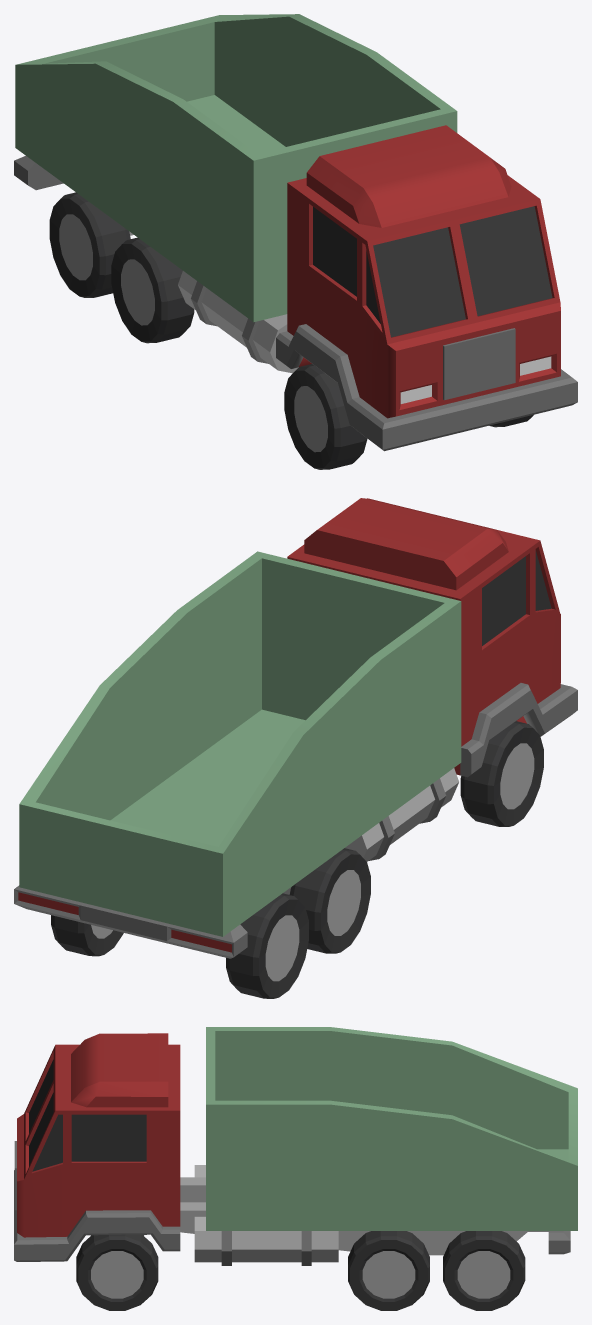
File: Gruzovik_V3.fbx
3 renders of one model, top to bottom at view 1: azimuth 30°, elevation 25°; view 2: azimuth 150°, elevation 25°; view 3: azimuth 270°, elevation 25°, orthographic. The views are drawn at different scales.
Parts seen in each view (by area): view 1: Gruzovik_V3; view 2: Gruzovik_V3; view 3: Gruzovik_V3.
Boxes of the visible parts, left/top/right/bottom form: Gruzovik_V3: left=14, top=14, right=577, bottom=469; Gruzovik_V3: left=14, top=498, right=577, bottom=998; Gruzovik_V3: left=14, top=1027, right=577, bottom=1310.
Bounding box in the file's own units: 5.07 × 6.1 × 14.42.
